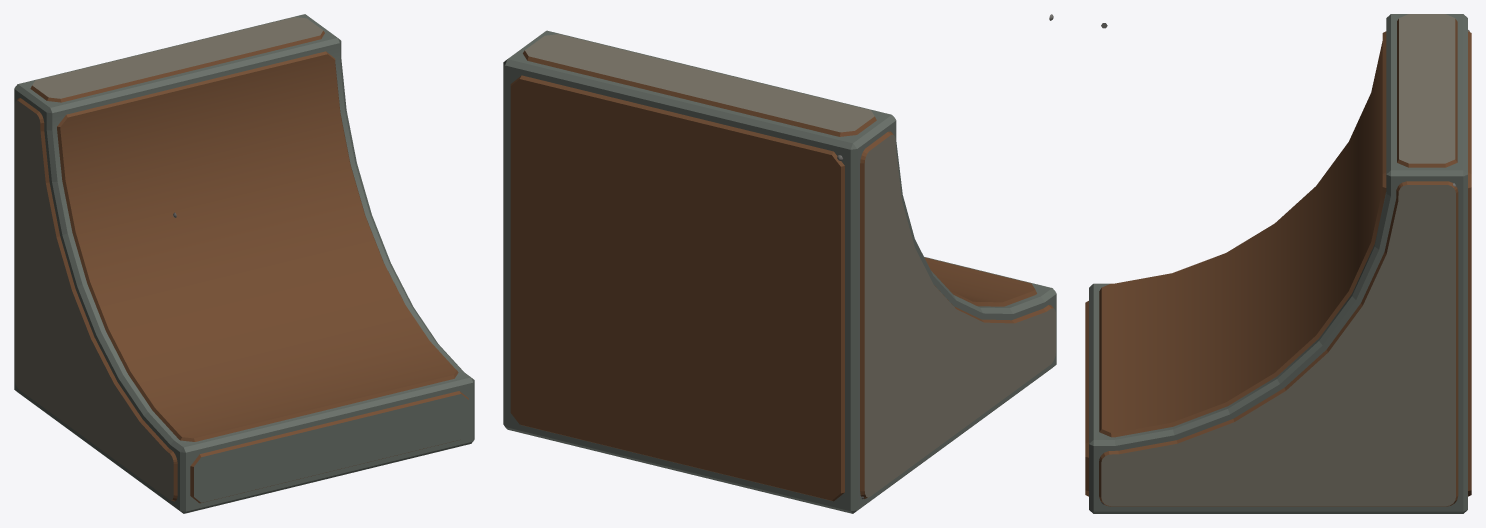
File: R4B_CoveEdge.fbx
The picture shows the model from 3 angles, left to right: view 1: azimuth 30°, elevation 25°; view 2: azimuth 150°, elevation 25°; view 3: azimuth 270°, elevation 25°; orthographic projection. The views are drawn at different scales.
Visible parts, largest first — view 1: R4B_CoveEdge; view 2: R4B_CoveEdge; view 3: R4B_CoveEdge.
Boxes of the visible parts, <box> form: R4B_CoveEdge: <box>14,14,474,513</box>; R4B_CoveEdge: <box>503,14,1056,513</box>; R4B_CoveEdge: <box>1085,14,1471,513</box>.
Bounding box in the file's own units: 0.52 × 0.52 × 0.52.
